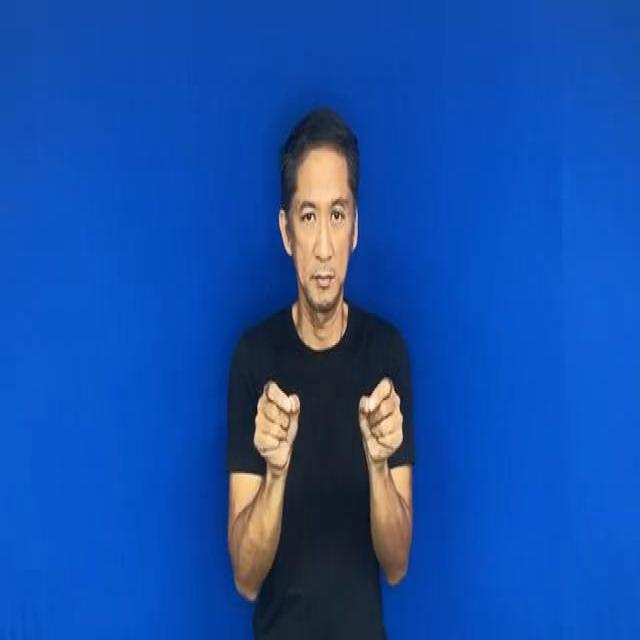crab: (349, 369, 416, 476), (251, 369, 307, 469)
